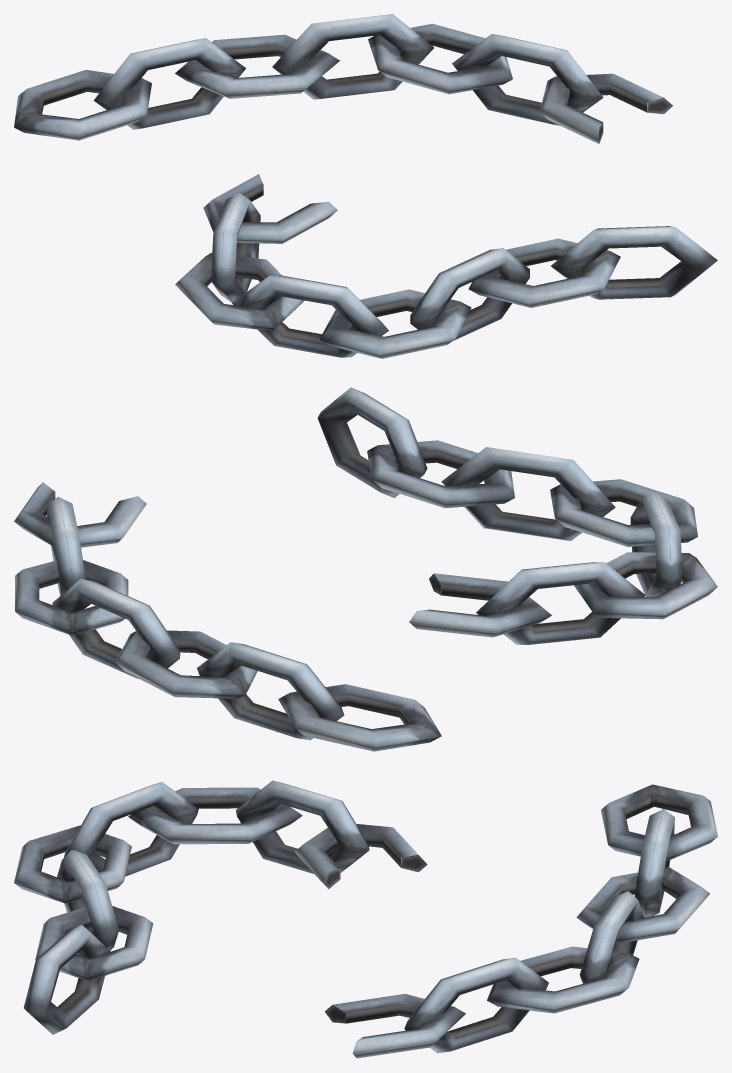
Rendered from deco_chains3.fbx.
3 renders of one model, top to bottom at view 1: azimuth 30°, elevation 25°; view 2: azimuth 150°, elevation 25°; view 3: azimuth 270°, elevation 25°, orthographic. The views are drawn at different scales.
Visible parts, largest first — view 1: Torus038; view 2: Torus038; view 3: Torus038.
Part boxes in pixels (x1=…): Torus038: x1=14, y1=14, x2=717, y2=358; Torus038: x1=14, y1=387, x2=717, y2=751; Torus038: x1=14, y1=780, x2=717, y2=1058.
Size of the model in its own units: 33.36 by 5.75 by 35.4.
